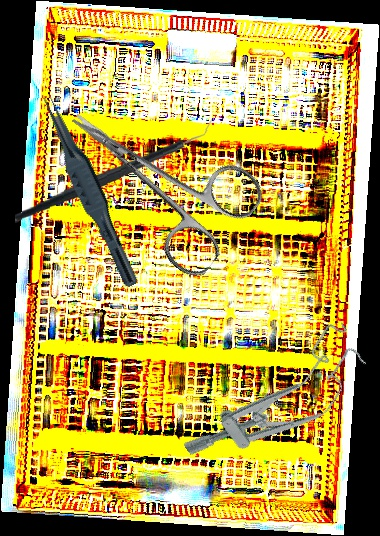Chopper: (9, 116, 218, 223)
Iris Scissors: (40, 66, 271, 284)
Speculum: (175, 317, 379, 491)
Tissue Forceps: (30, 90, 150, 290)
